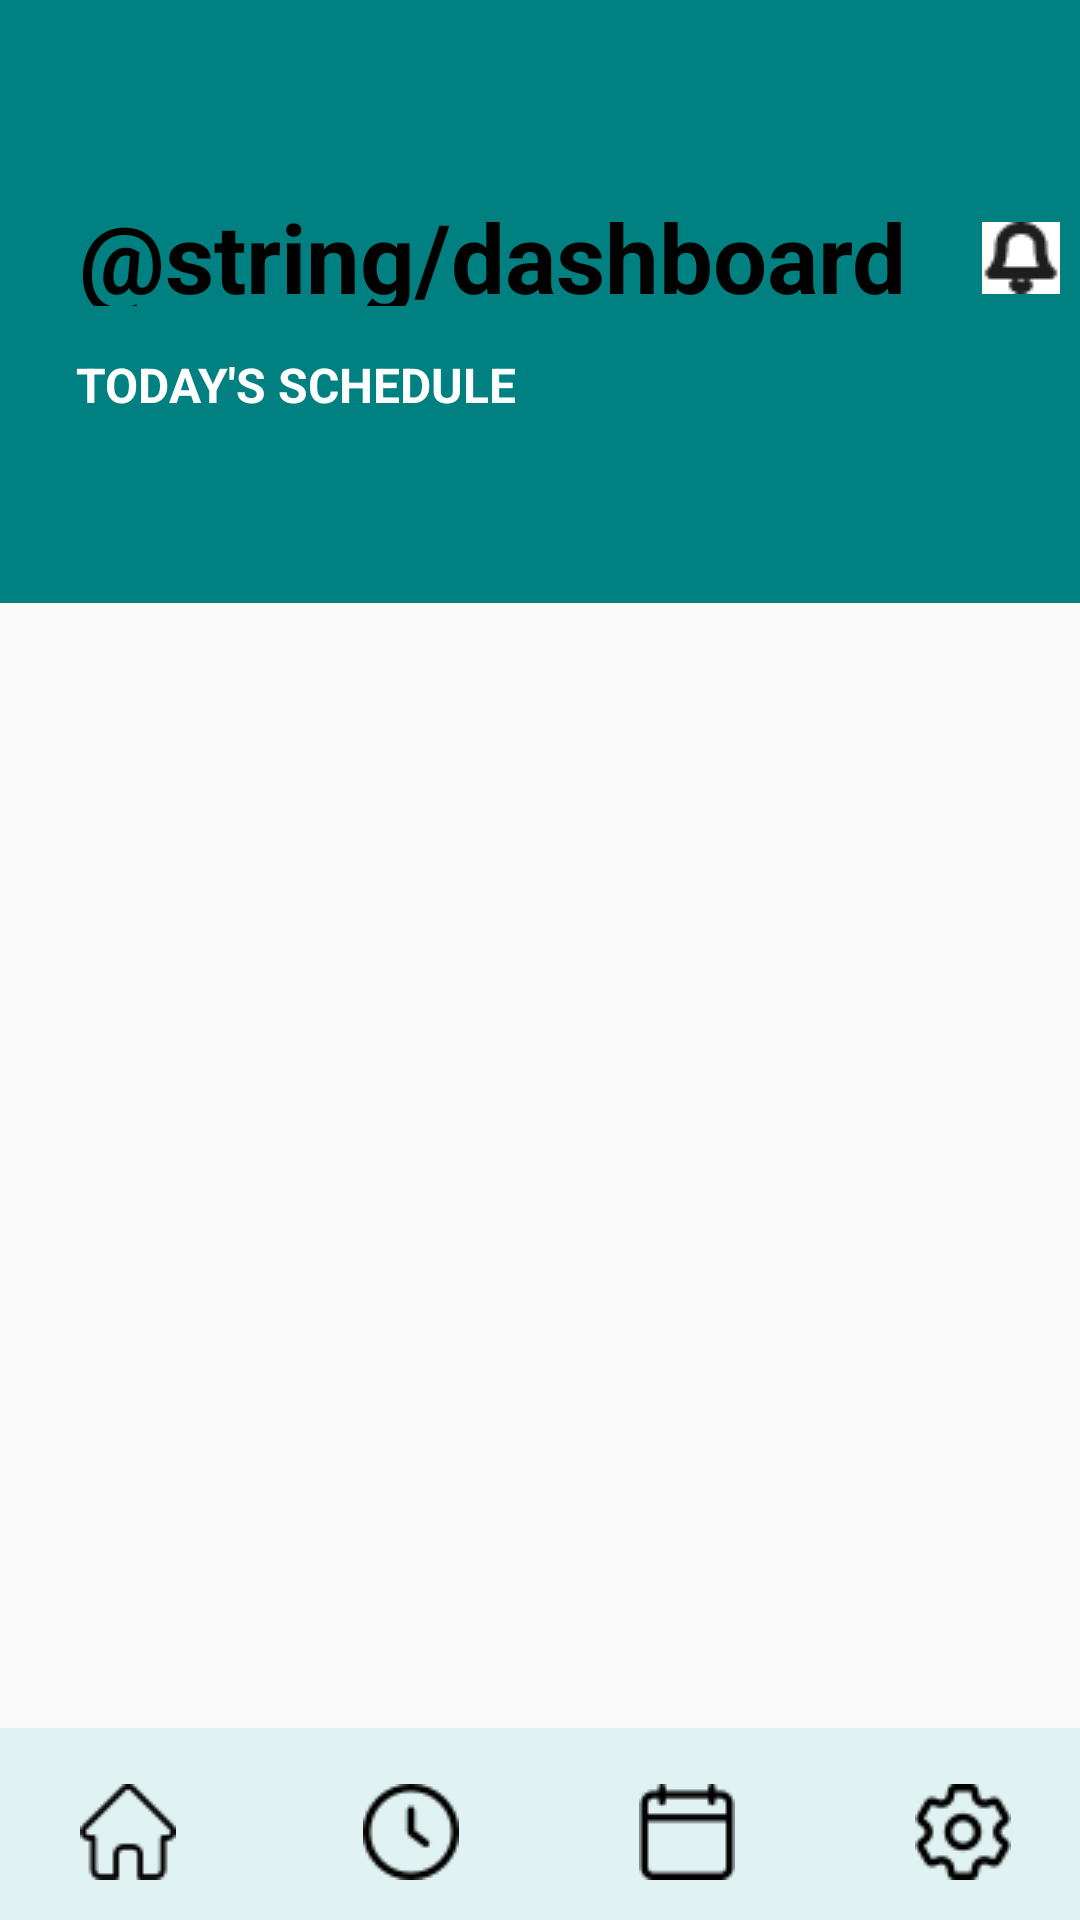

Icon click points for this 1080×1920 phone screenshot, format (x,y):
bell: (1021,258)
Calender: (687,1832)
Clock: (411,1832)
Home: (128,1832)
Settings: (963,1832)
